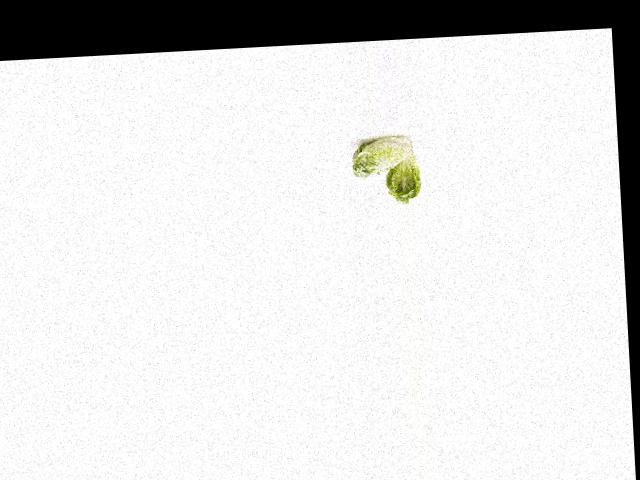lettuce: (346, 132, 419, 182)
